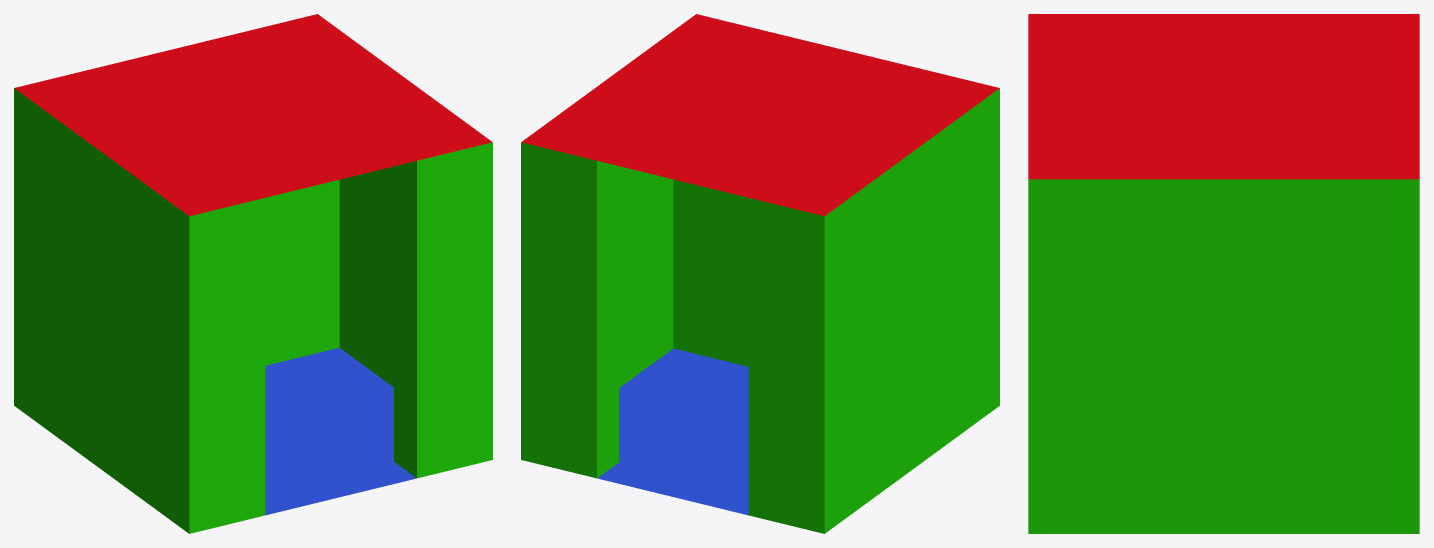
The picture shows the model from 3 angles, left to right: view 1: azimuth 30°, elevation 25°; view 2: azimuth 150°, elevation 25°; view 3: azimuth 270°, elevation 25°; orthographic projection. The views are drawn at different scales.
Visible parts, largest first — view 1: 1U Cube; view 2: 1U Cube; view 3: 1U Cube.
Boxes of the visible parts, x1,y1,x2,y2 form: 1U Cube: [14, 14, 492, 533]; 1U Cube: [521, 14, 999, 533]; 1U Cube: [1028, 14, 1419, 533].
Bounding box in the file's own units: 800 × 800 × 800.
